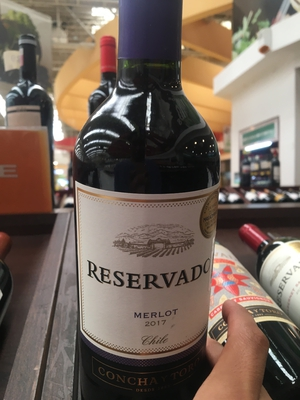reservado merlot: (65, 2, 226, 382)
